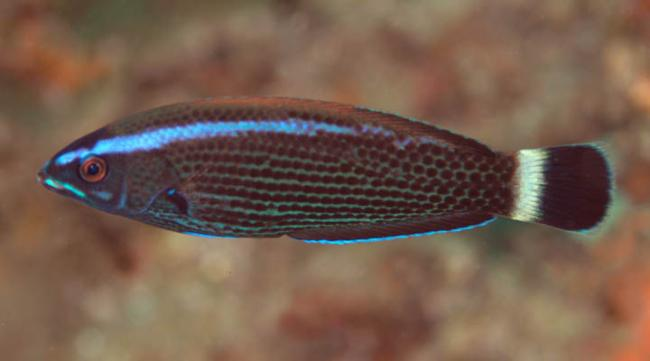fish: (36, 95, 617, 246)
